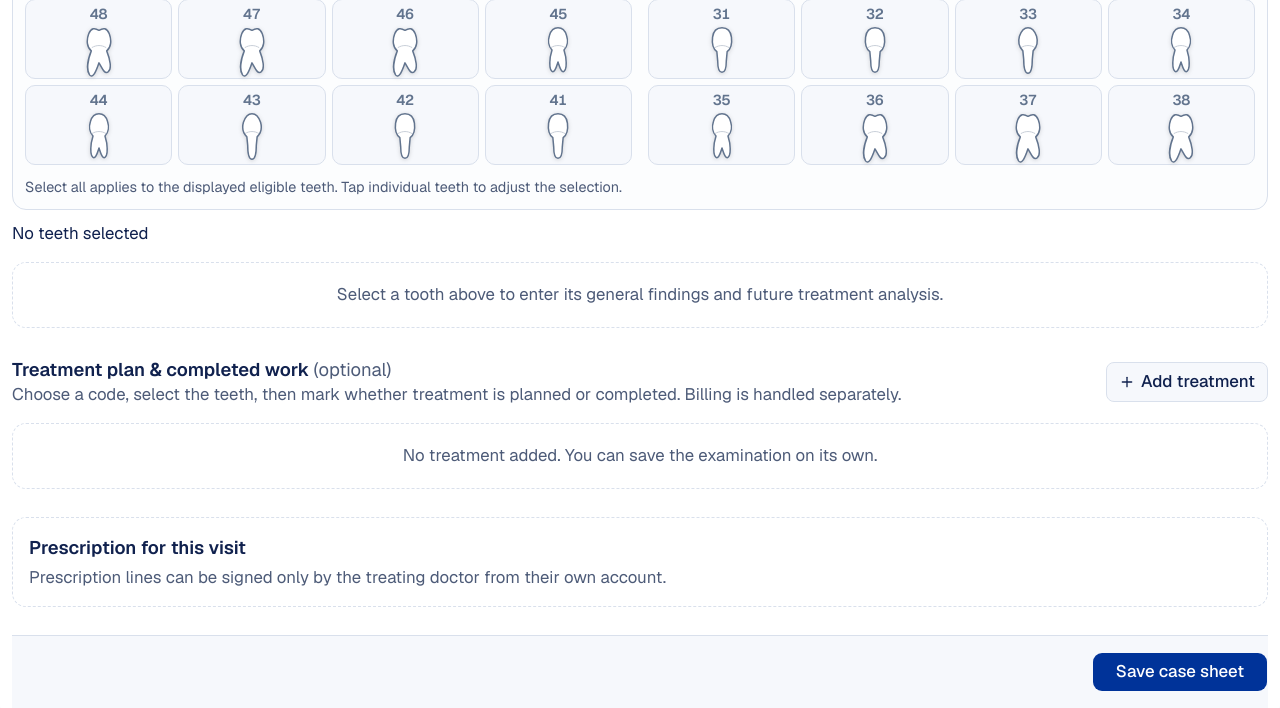
it: simplified CaseSheetEditor › allows an unsaved treatment draft to be removed
(page scrolled)
What coordinates should you click on to do the following:
click the button "Add treatment"
I would click on:
 (1187, 382)
Its box is left=1106, top=362, right=1268, bottom=402.
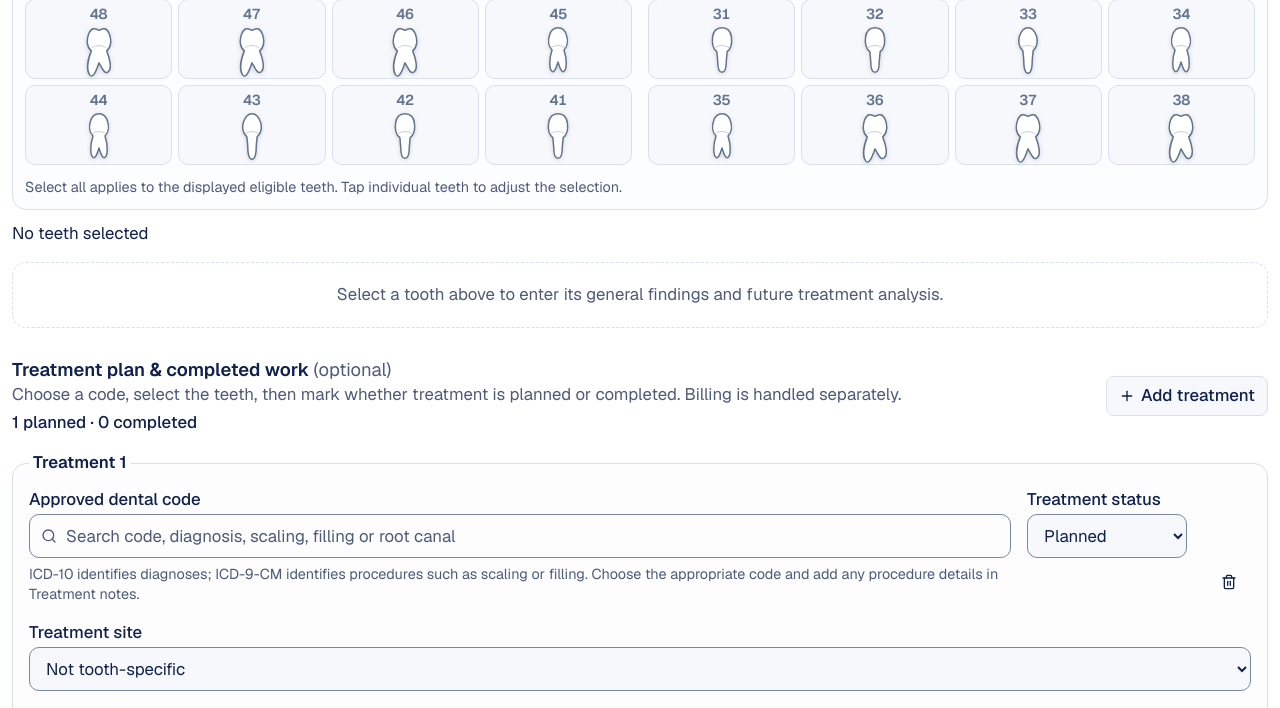
What coordinates should you click on to do the following:
click the button named "Remove treatment 1"
I would click on:
 (1229, 582)
Its box is left=1207, top=560, right=1251, bottom=604.
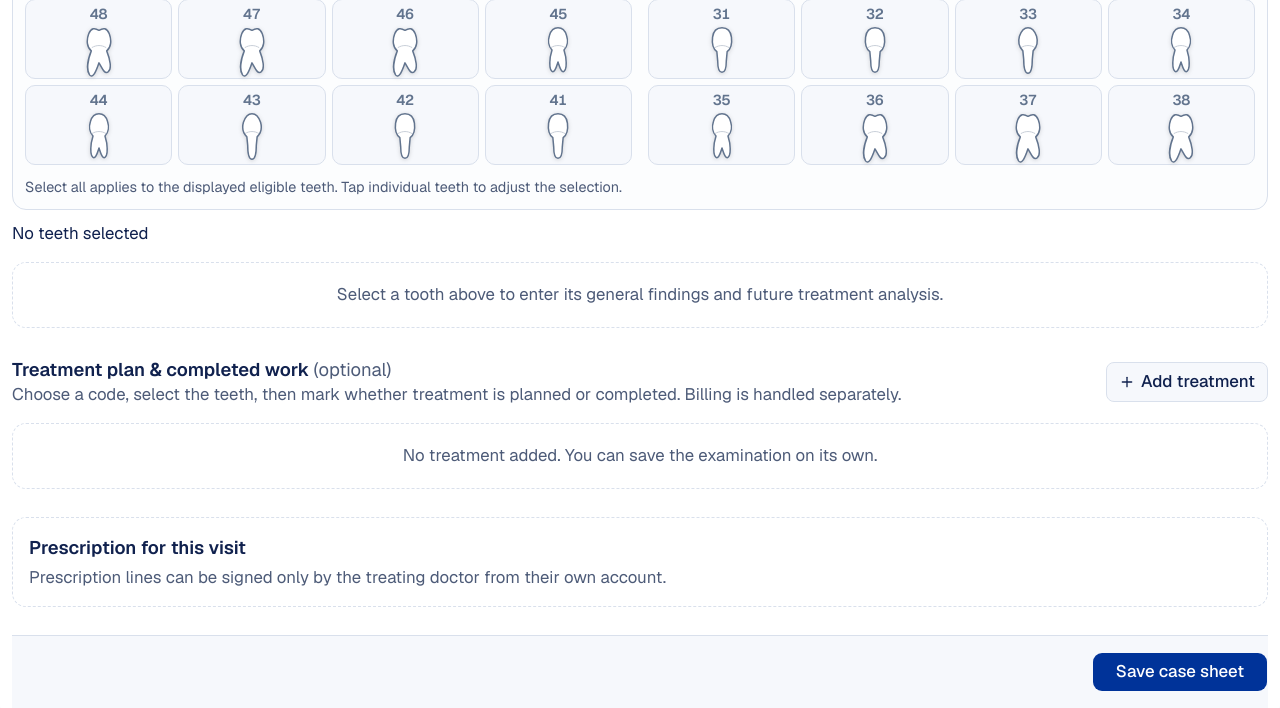
Now the text "Treatment 1" is gone
Now the text "No treatment added. You can save the examination on its own." is shown, box left=12, top=423, right=1268, bottom=489
